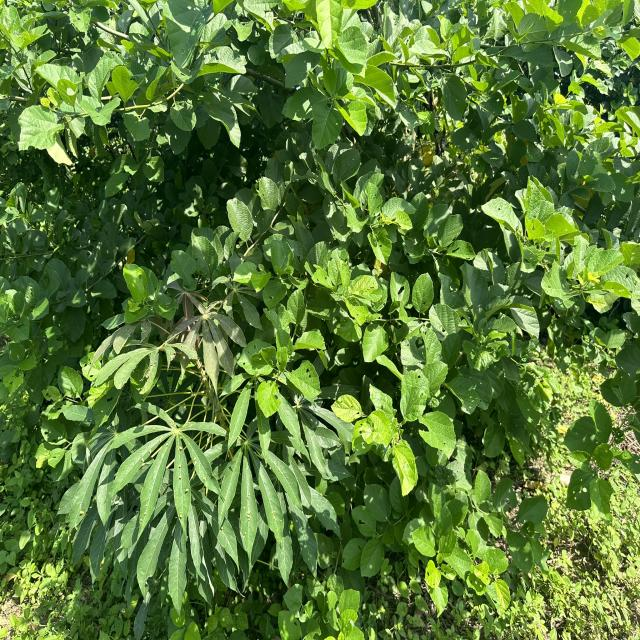Maleza: (356, 361, 640, 628), (368, 11, 640, 287), (0, 2, 447, 152), (0, 0, 186, 315), (233, 109, 482, 325), (482, 173, 640, 452), (307, 252, 496, 389), (248, 577, 606, 640), (0, 260, 117, 425), (258, 313, 325, 403)
Mosca: (157, 432, 173, 449), (173, 461, 184, 483), (136, 456, 151, 472), (181, 483, 194, 496), (173, 441, 184, 455), (75, 508, 87, 520), (216, 519, 226, 533), (173, 510, 181, 525)
